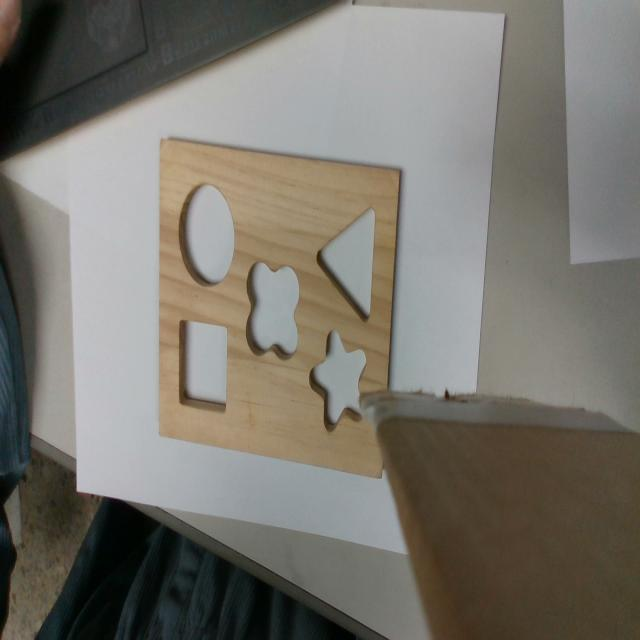circle: (179, 185, 235, 289)
flower: (246, 262, 300, 359)
square: (179, 319, 227, 416)
star: (306, 330, 366, 431)
triangle: (318, 205, 377, 321)
